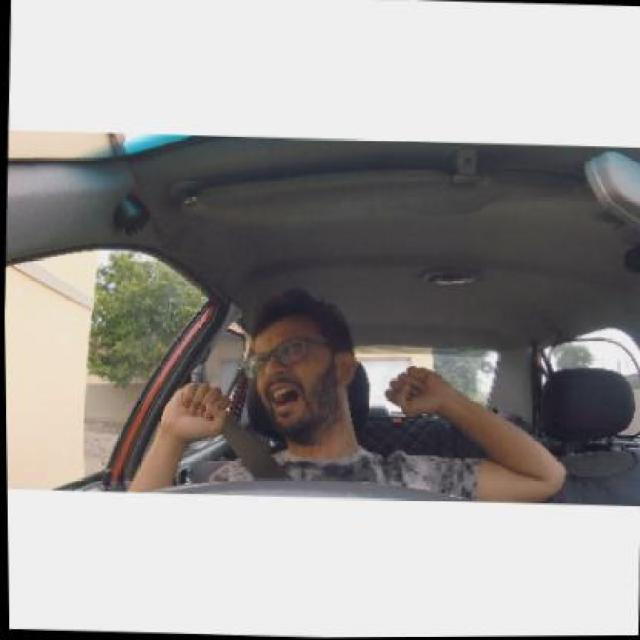drowsy: (234, 302, 376, 443)
